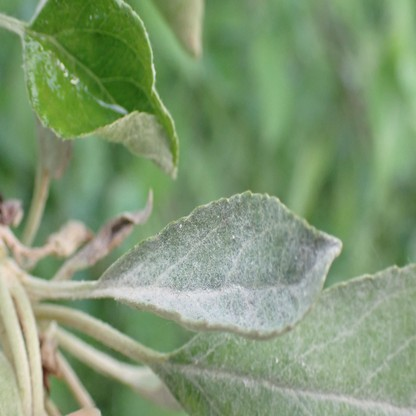powdery_mildew: (157, 265, 416, 415), (100, 190, 342, 335), (82, 108, 175, 176)
